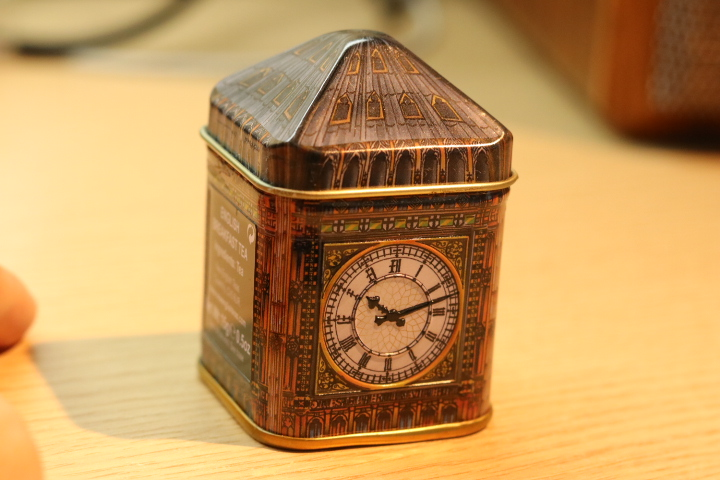Big Ben: (181, 25, 541, 460)
